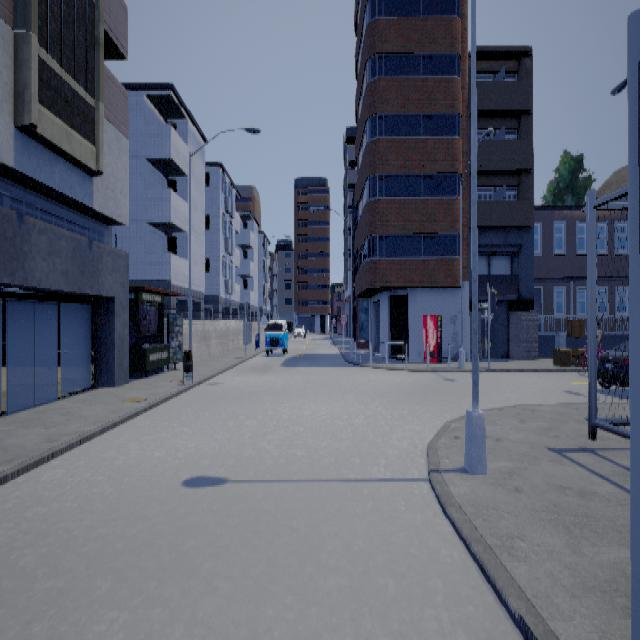traffic_sign: (339, 312, 346, 324)
vehicle: (596, 342, 628, 387), (263, 318, 287, 356)
